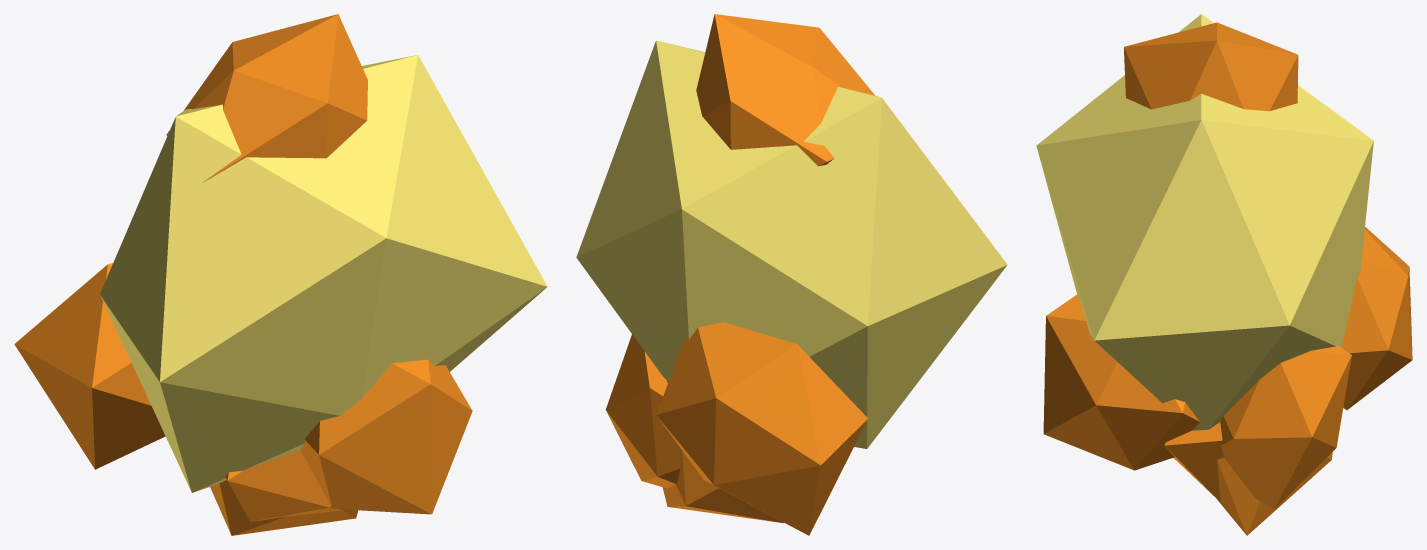
The model's file is frame_4.glb.
3 views of the same model, side by side, from view 1: azimuth 30°, elevation 25°; view 2: azimuth 150°, elevation 25°; view 3: azimuth 270°, elevation 25° (orthographic). The views are drawn at different scales.
Visible parts, largest first — view 1: effect_explosion_large_frame_4; view 2: effect_explosion_large_frame_4; view 3: effect_explosion_large_frame_4.
Boxes of the visible parts, box(x1,y1,x2,y2) form: effect_explosion_large_frame_4: box(14, 14, 547, 535); effect_explosion_large_frame_4: box(576, 14, 1007, 535); effect_explosion_large_frame_4: box(1036, 14, 1412, 535).
Size of the model in its own units: 11.31 by 14.6 by 10.37.
